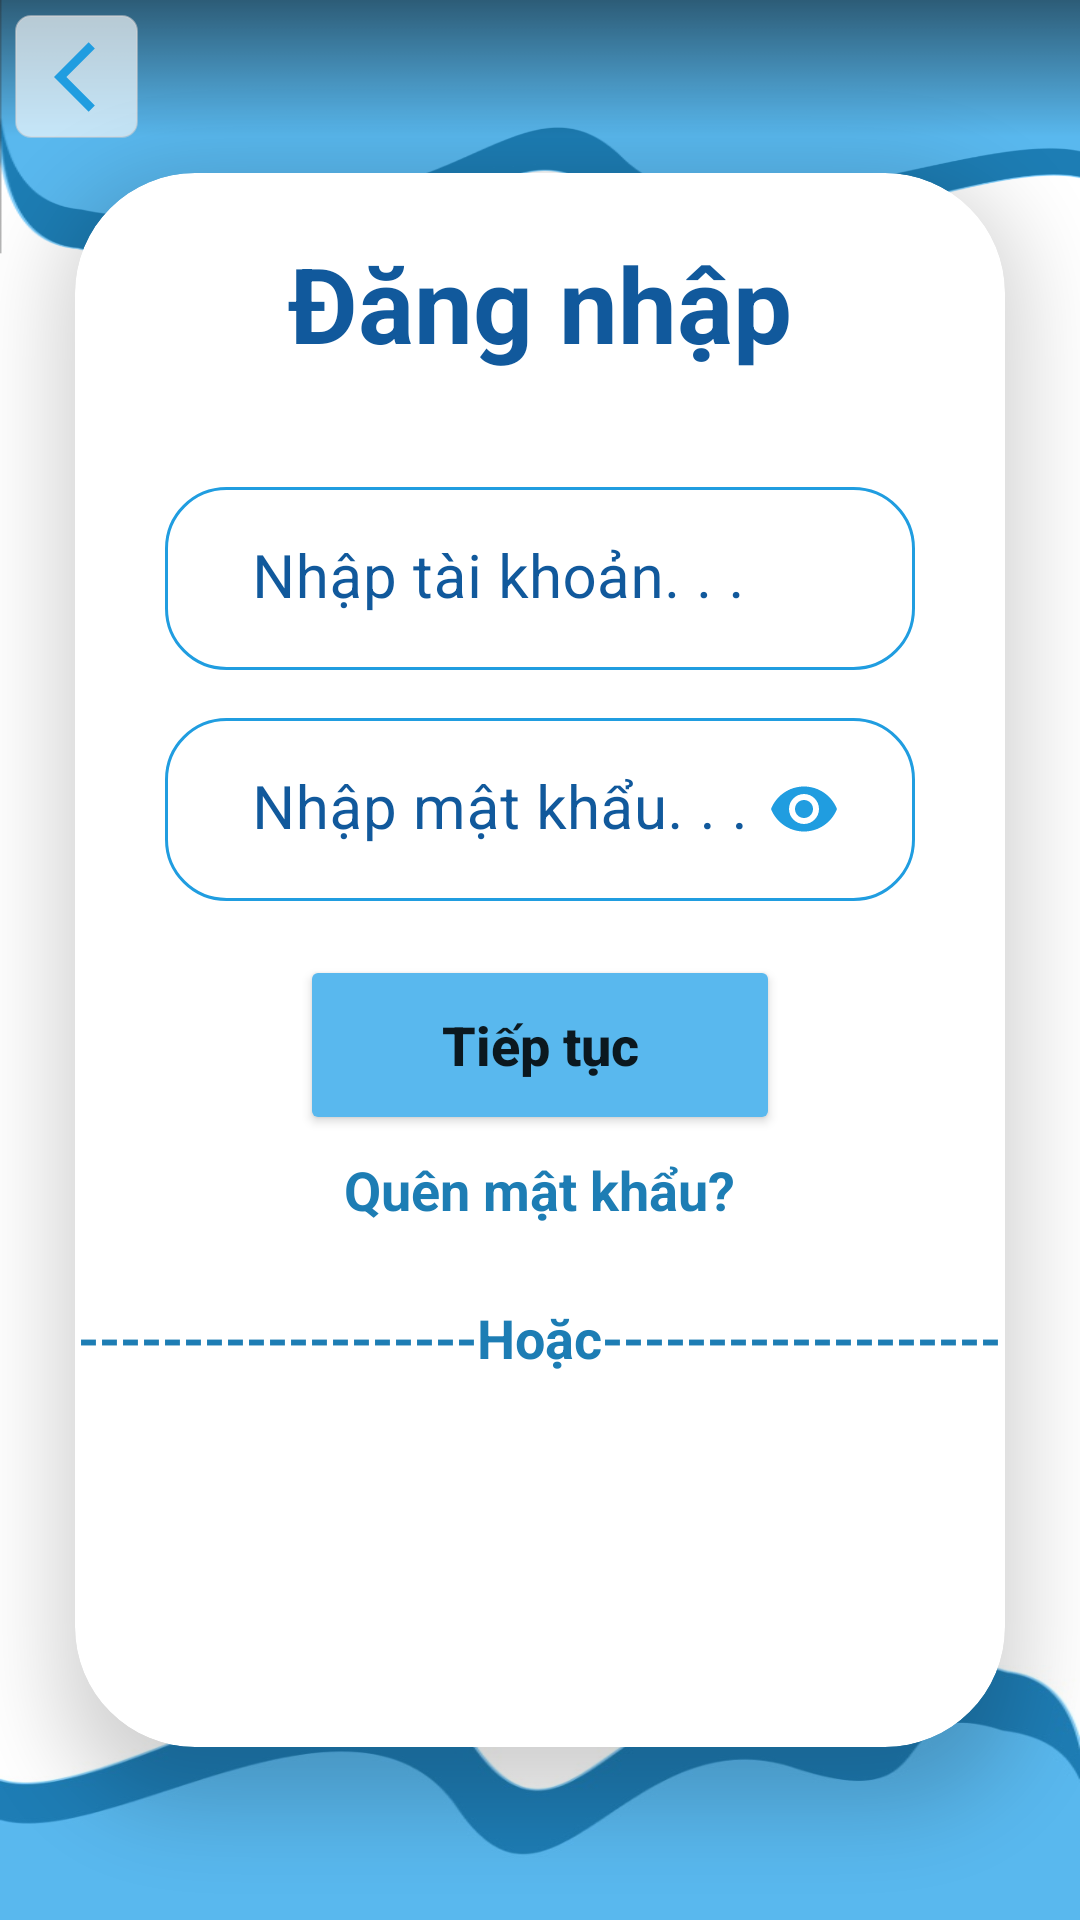

Point at icon controls on the screen. Image size 1080px×1920px, points as (x=x, y=y).
arrow back: (x=76, y=76)
